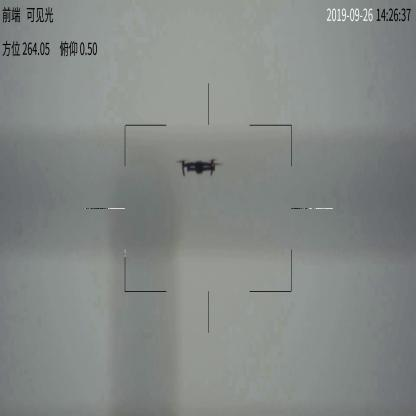uav: (176, 154, 222, 178)
